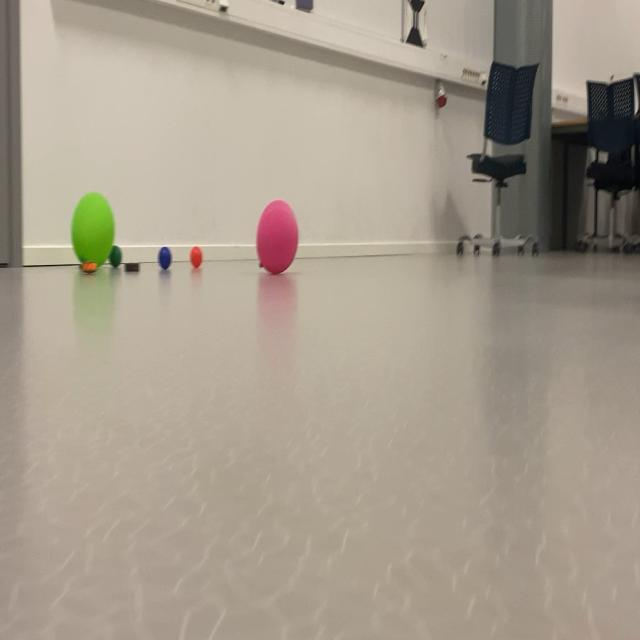7: (187, 240, 206, 281)
green ball: (156, 239, 174, 284)
red ball: (104, 233, 122, 280)
